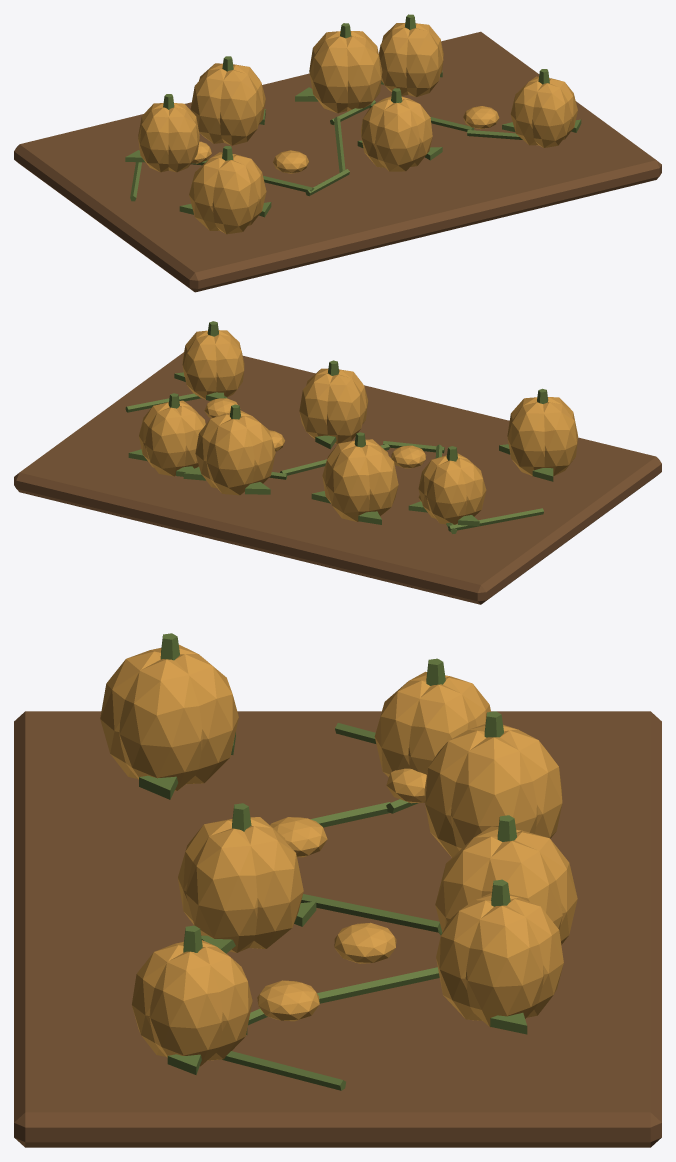
The model's file is prop_pumpkin_patch_a.glb.
The picture shows the model from 3 angles, top to bottom: view 1: azimuth 30°, elevation 25°; view 2: azimuth 150°, elevation 25°; view 3: azimuth 270°, elevation 25°; orthographic projection. The views are drawn at different scales.
Visible parts, largest first — view 1: pumpkin_patch_soil, pumpkin_00_lobe_00, pumpkin_leaf_00_0; view 2: pumpkin_patch_soil, pumpkin_00_lobe_00, pumpkin_leaf_00_0; view 3: pumpkin_patch_soil, pumpkin_00_lobe_00, pumpkin_leaf_00_0.
Part boxes in pixels (box(x1,y1,x2,y2)): pumpkin_patch_soil: box(14, 31, 661, 292); pumpkin_00_lobe_00: box(138, 23, 577, 234); pumpkin_leaf_00_0: box(125, 14, 581, 217); pumpkin_patch_soil: box(14, 352, 661, 604); pumpkin_00_lobe_00: box(139, 330, 578, 524); pumpkin_leaf_00_0: box(125, 321, 553, 533); pumpkin_patch_soil: box(14, 711, 661, 1147); pumpkin_00_lobe_00: box(100, 644, 577, 1066); pumpkin_leaf_00_0: box(139, 633, 527, 1090).
Size of the model in its own units: 3 by 0.6015 by 2.
